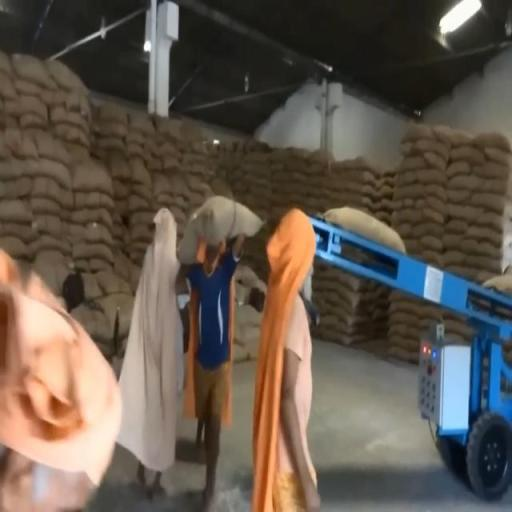c-belt-sack-count: (323, 206, 406, 253)
